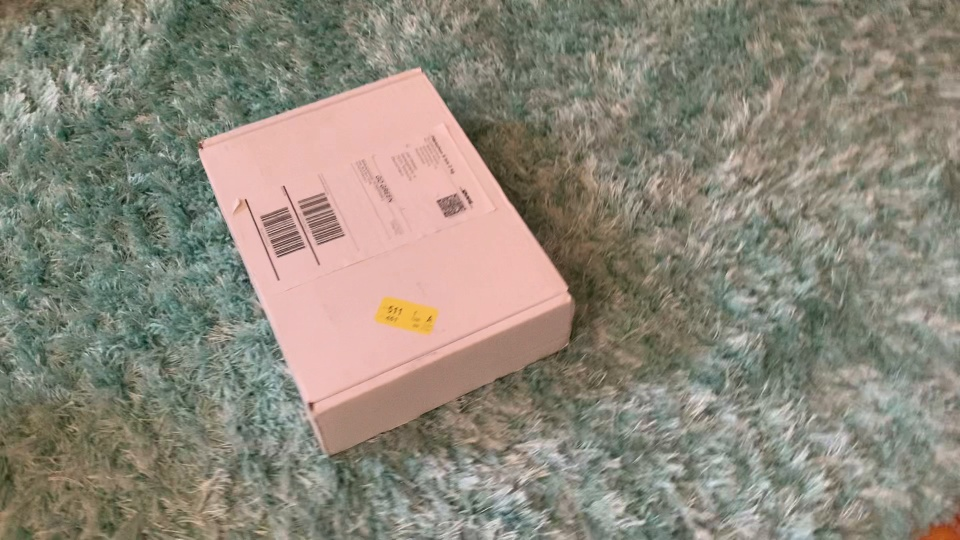good-parcel: (195, 67, 578, 452)
